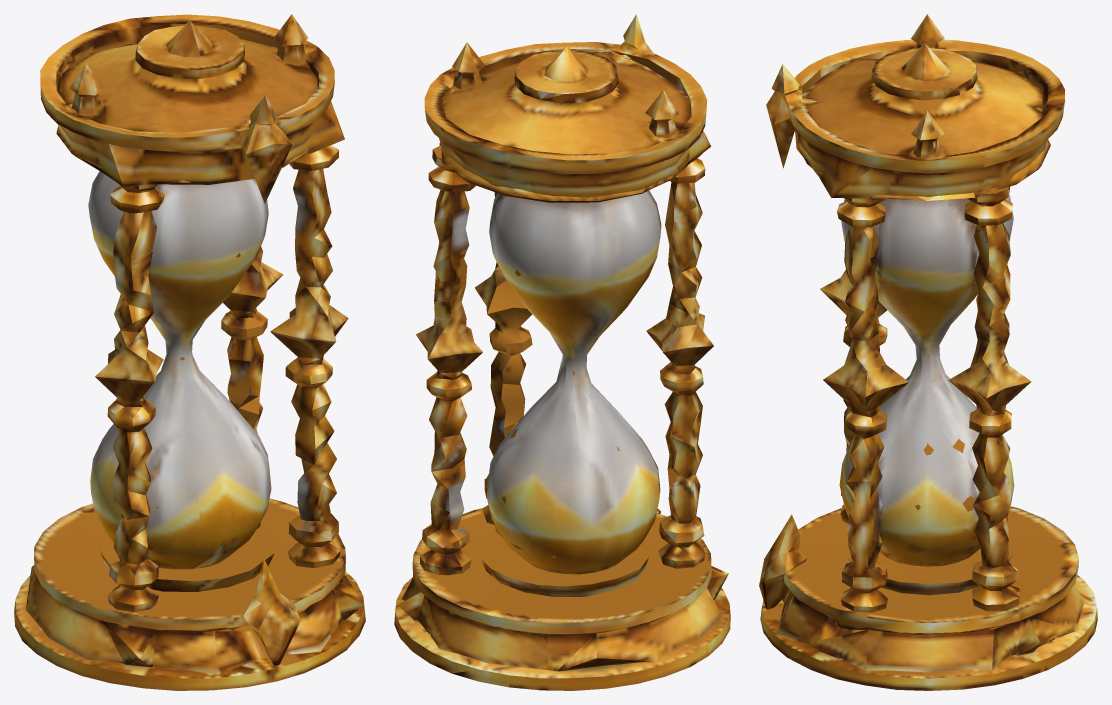
File: item_maw_craft_hourglass.glb
3 views of the same model, side by side, from view 1: azimuth 30°, elevation 25°; view 2: azimuth 150°, elevation 25°; view 3: azimuth 270°, elevation 25° (orthographic). The views are drawn at different scales.
Parts seen in each view (by area): view 1: maw_hourglass; view 2: maw_hourglass; view 3: maw_hourglass.
Part boxes in pixels (x1=…): maw_hourglass: x1=14, y1=14, x2=365, y2=690; maw_hourglass: x1=394, y1=14, x2=730, y2=690; maw_hourglass: x1=759, y1=14, x2=1097, y2=690.
Size of the model in its own units: 0.5344 by 1 by 0.5338.
Materials: 1 (1 with a texture image).
